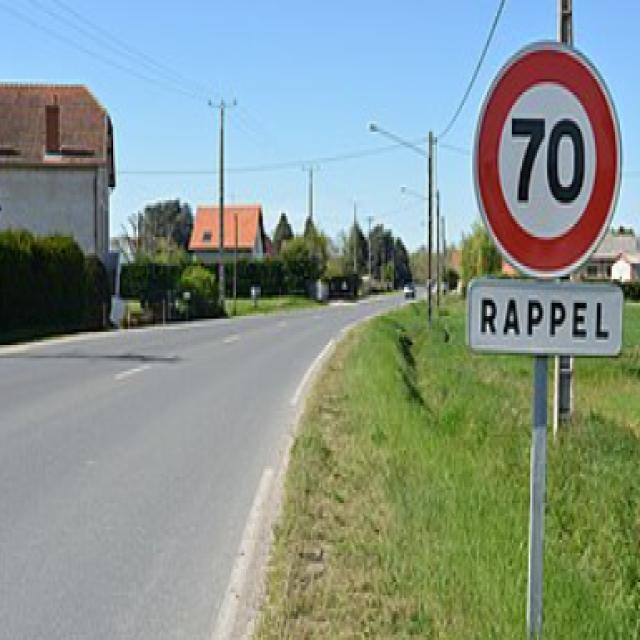speed_70: (472, 39, 624, 280)
